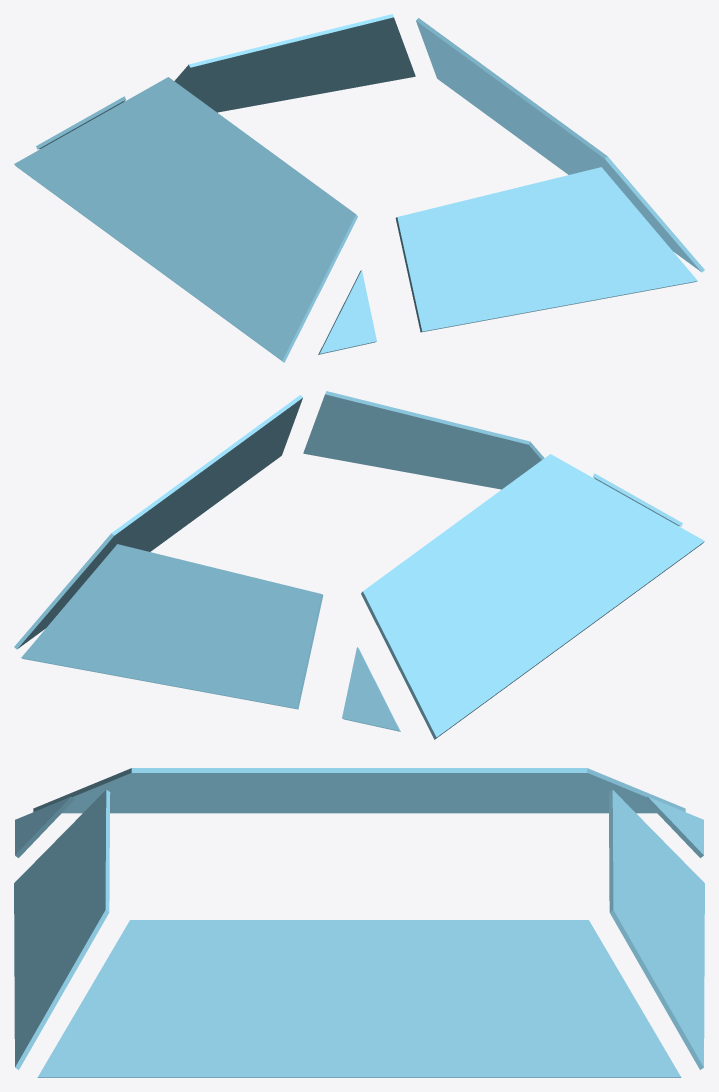
The model's file is Windows.glb.
The picture shows the model from 3 angles, top to bottom: view 1: azimuth 30°, elevation 25°; view 2: azimuth 150°, elevation 25°; view 3: azimuth 270°, elevation 25°; orthographic projection. The views are drawn at different scales.
Visible parts, largest first — view 1: Cube.112; view 2: Cube.112; view 3: Cube.112.
Part boxes in pixels (left/top/right/bottom): Cube.112: left=14, top=14, right=704, bottom=362; Cube.112: left=14, top=391, right=704, bottom=739; Cube.112: left=14, top=768, right=704, bottom=1077.
Size of the model in its own units: 0.0612 by 0.0145 by 0.0711.
Materials: 1 (1 with a texture image).
